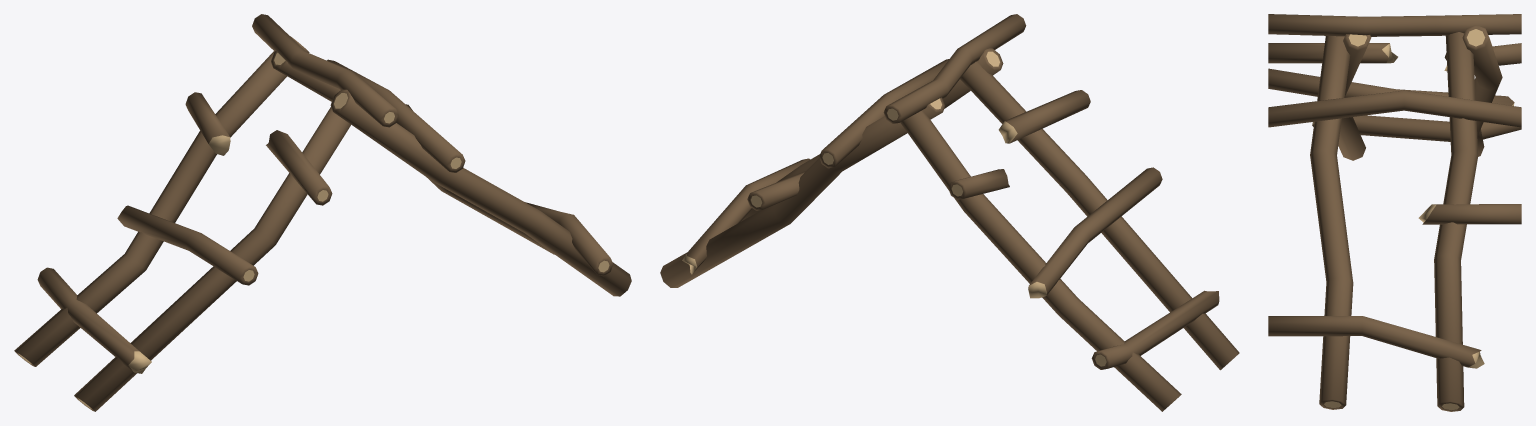
File: rpgpp_av_roof_support_01_6x3x3_a.gltf
3 views of the same model, side by side, from view 1: azimuth 30°, elevation 25°; view 2: azimuth 150°, elevation 25°; view 3: azimuth 270°, elevation 25° (orthographic). The views are drawn at different scales.
Visible parts, largest first — view 1: rpgpp_av_roof_support_01_6x3x3_a; view 2: rpgpp_av_roof_support_01_6x3x3_a; view 3: rpgpp_av_roof_support_01_6x3x3_a.
Part boxes in pixels (bbox=[...]): rpgpp_av_roof_support_01_6x3x3_a: bbox=[14, 14, 631, 411]; rpgpp_av_roof_support_01_6x3x3_a: bbox=[660, 14, 1239, 411]; rpgpp_av_roof_support_01_6x3x3_a: bbox=[1268, 14, 1521, 411].
Bounding box in the file's own units: 0.0734 × 0.0358 × 0.03.
1 material, 1 textured.
